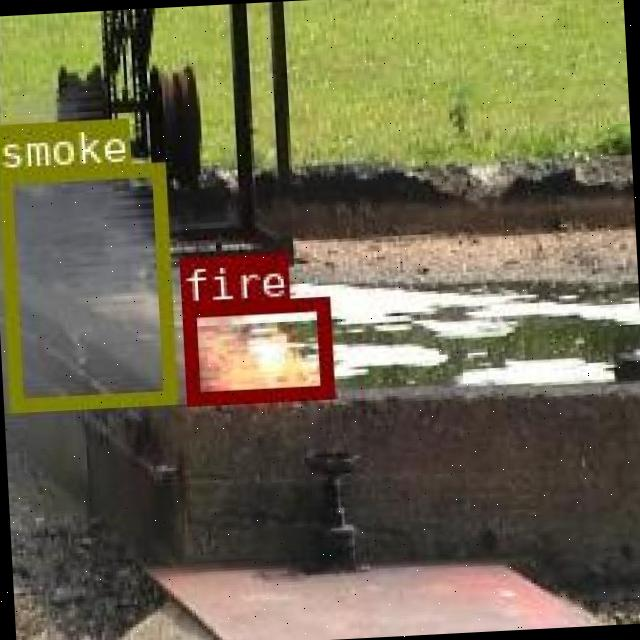fire: (182, 296, 331, 402)
smoke: (0, 162, 175, 408)
